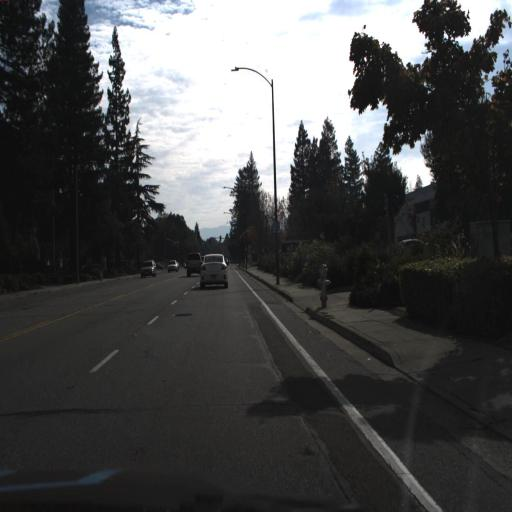car: (198, 252, 227, 288), (186, 252, 203, 280), (140, 258, 155, 276), (167, 257, 179, 272)
